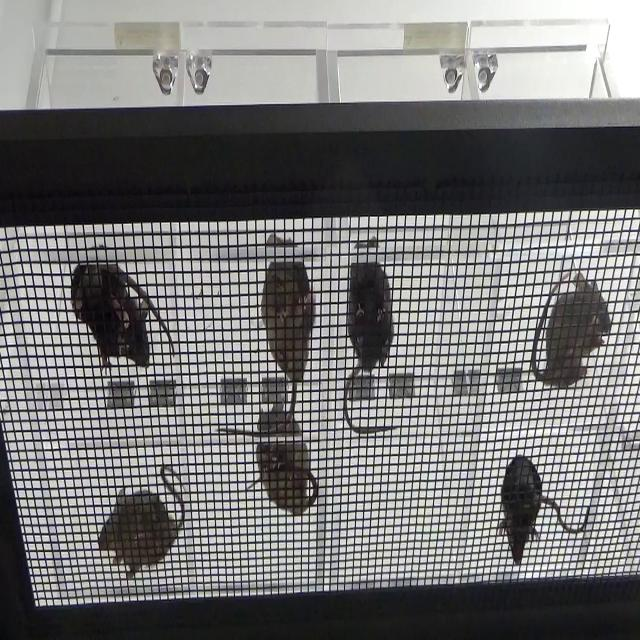scratch: (254, 230, 326, 418)
